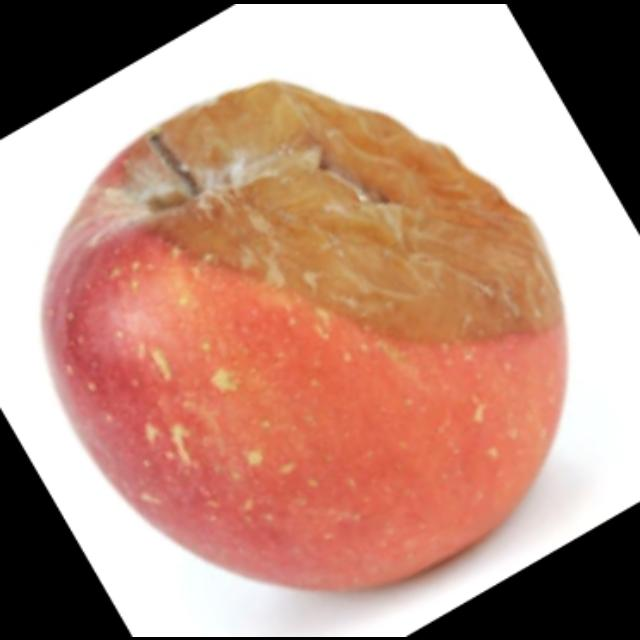Apel Tidak Segar: (37, 70, 576, 598)
